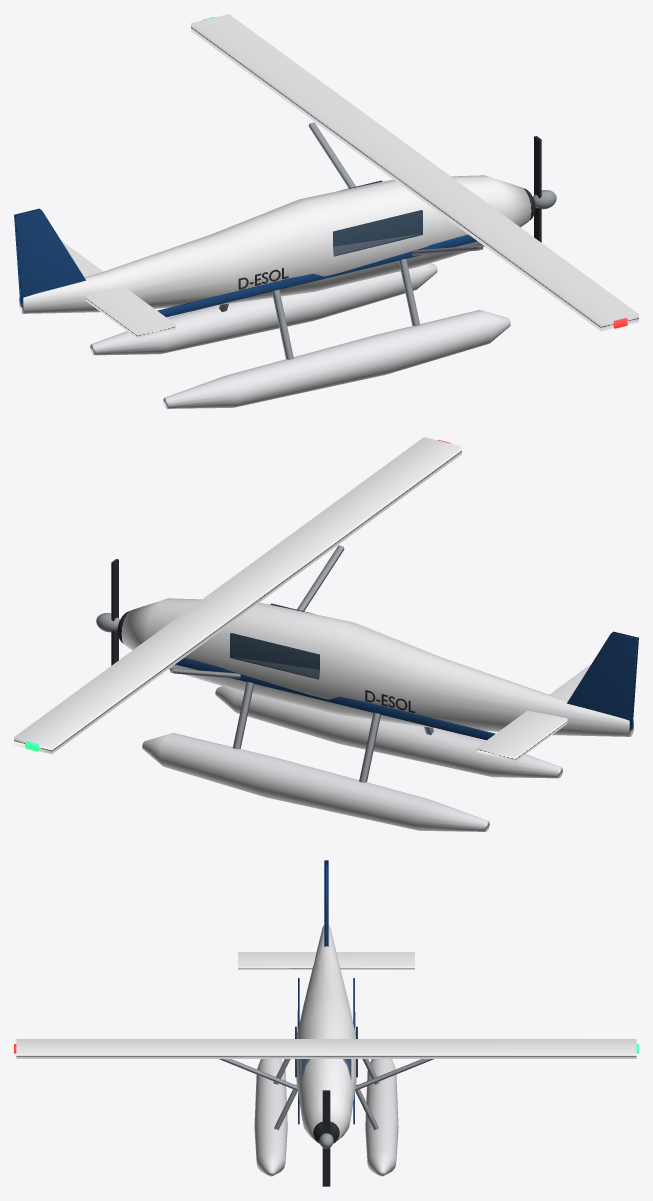
The model's file is seaplane.glb.
3 views of the same model, one above another, from view 1: azimuth 30°, elevation 25°; view 2: azimuth 150°, elevation 25°; view 3: azimuth 270°, elevation 25° (orthographic). The views are drawn at different scales.
Parts seen in each view (by area): view 1: body, prop; view 2: body, prop; view 3: body, prop.
Part boxes in pixels (left/top/right/bottom): body: left=14, top=14, right=638, bottom=408; prop: left=533, top=136, right=556, bottom=242; body: left=14, top=437, right=638, bottom=831; prop: left=96, top=559, right=119, bottom=665; body: left=14, top=860, right=638, bottom=1176; prop: left=319, top=1090, right=333, bottom=1186.
Bounding box in the file's own units: 85.22 × 31.8 × 113.
